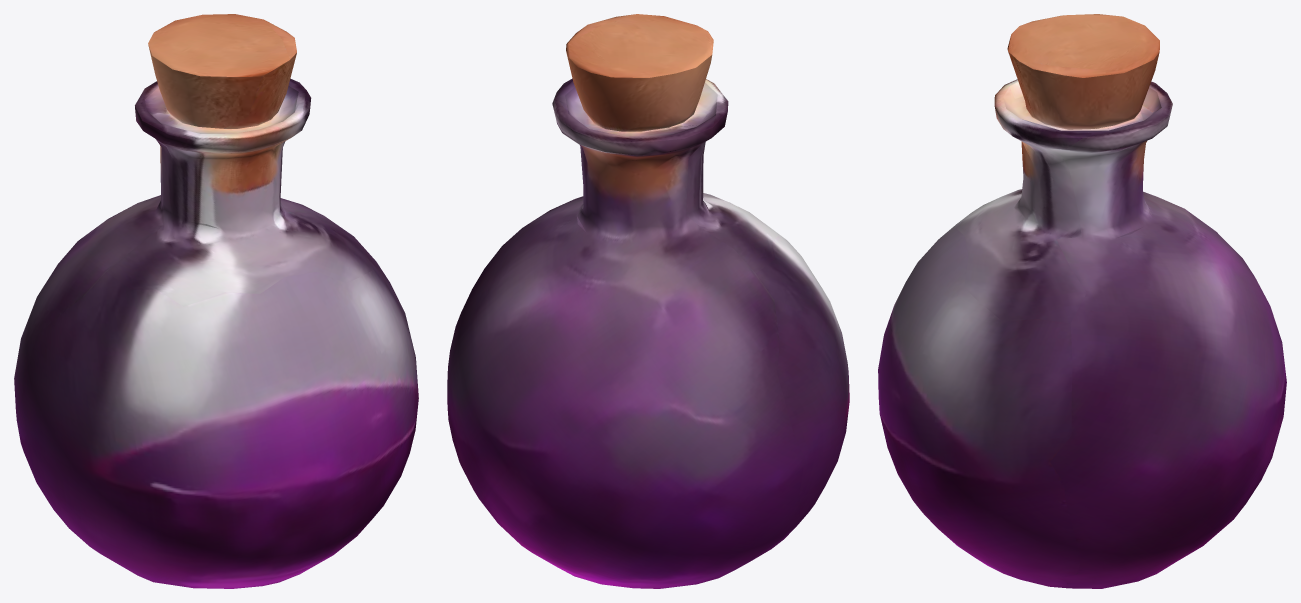
Rendered from potionBottle.glb.
3 renders of one model, left to right at view 1: azimuth 30°, elevation 25°; view 2: azimuth 150°, elevation 25°; view 3: azimuth 270°, elevation 25°, orthographic.
Visible parts, largest first — view 1: model; view 2: model; view 3: model.
Boxes of the visible parts, <box> form: model: <box>14,14,418,588</box>; model: <box>447,14,849,588</box>; model: <box>878,14,1286,588</box>.
Size of the model in its own units: 1.38 by 1.9 by 1.39.
1 material, 1 textured.
